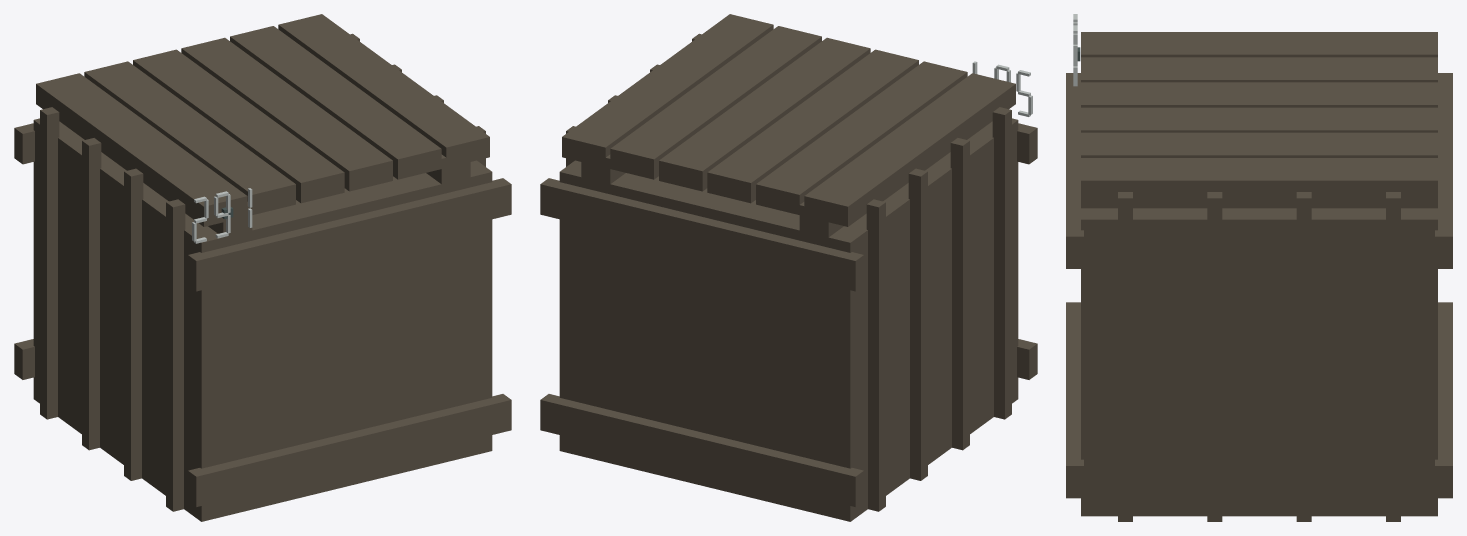
File: crate-3.glb
3 renders of one model, left to right at view 1: azimuth 30°, elevation 25°; view 2: azimuth 150°, elevation 25°; view 3: azimuth 270°, elevation 25°, orthographic. The views are drawn at different scales.
Visible parts, largest first — view 1: crate/2/KR-230-3; view 2: crate/2/KR-230-3; view 3: crate/2/KR-230-3.
Part boxes in pixels (bbox=[...]): crate/2/KR-230-3: bbox=[14, 14, 511, 521]; crate/2/KR-230-3: bbox=[540, 14, 1037, 521]; crate/2/KR-230-3: bbox=[1066, 14, 1452, 521].
Size of the model in its own units: 1.3 by 1.28 by 1.3.
